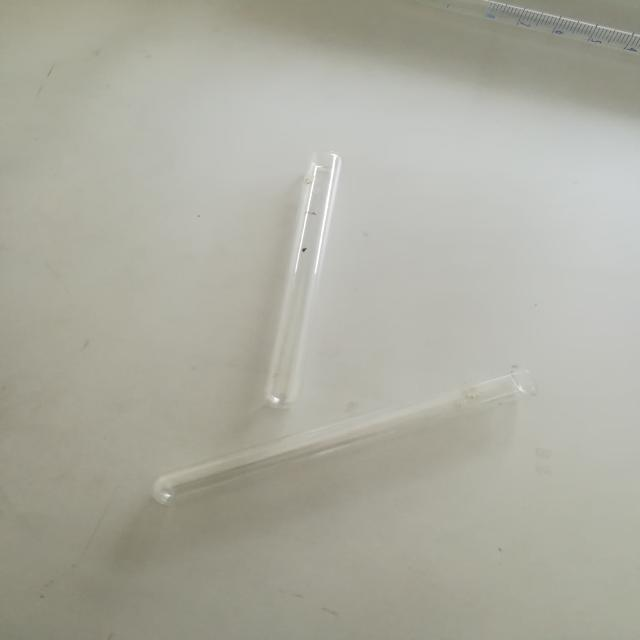Test_Tube: (127, 342, 553, 527), (237, 122, 366, 418)
